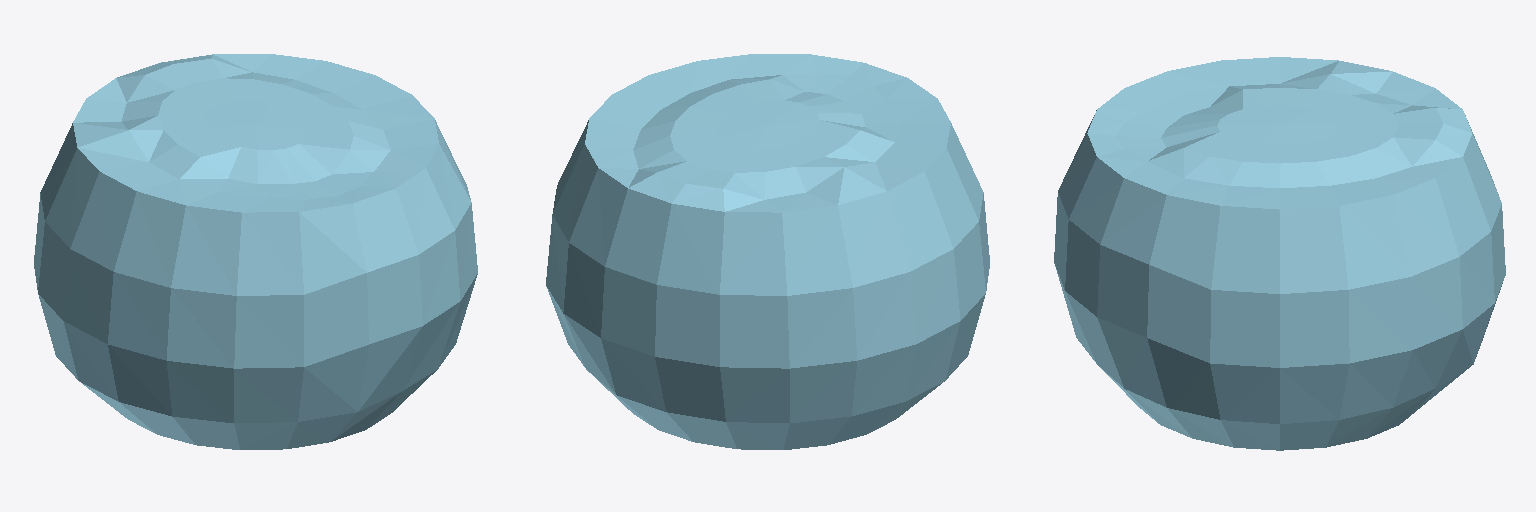
3 views of the same model, side by side, from view 1: azimuth 30°, elevation 25°; view 2: azimuth 150°, elevation 25°; view 3: azimuth 270°, elevation 25° (orthographic).
Visible parts, largest first — view 1: Agua_pSphere1; view 2: Agua_pSphere1; view 3: Agua_pSphere1.
Boxes of the visible parts, box(x1,y1,x2,y2) form: Agua_pSphere1: box(34, 54, 477, 449); Agua_pSphere1: box(546, 54, 989, 449); Agua_pSphere1: box(1054, 57, 1505, 450).
Bounding box in the file's own units: 0.3503 × 0.2299 × 0.3561.
1 materials, 1 textured.